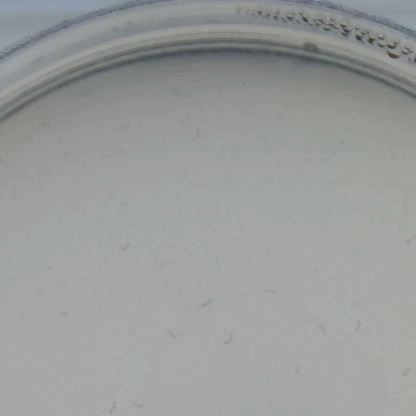worm: (106, 234, 136, 254), (217, 329, 241, 353), (157, 326, 187, 343), (349, 312, 366, 341), (99, 395, 122, 416), (315, 319, 335, 343), (195, 293, 217, 314), (131, 399, 150, 415), (400, 231, 416, 247), (261, 288, 283, 299), (401, 365, 416, 381), (190, 127, 203, 145)
